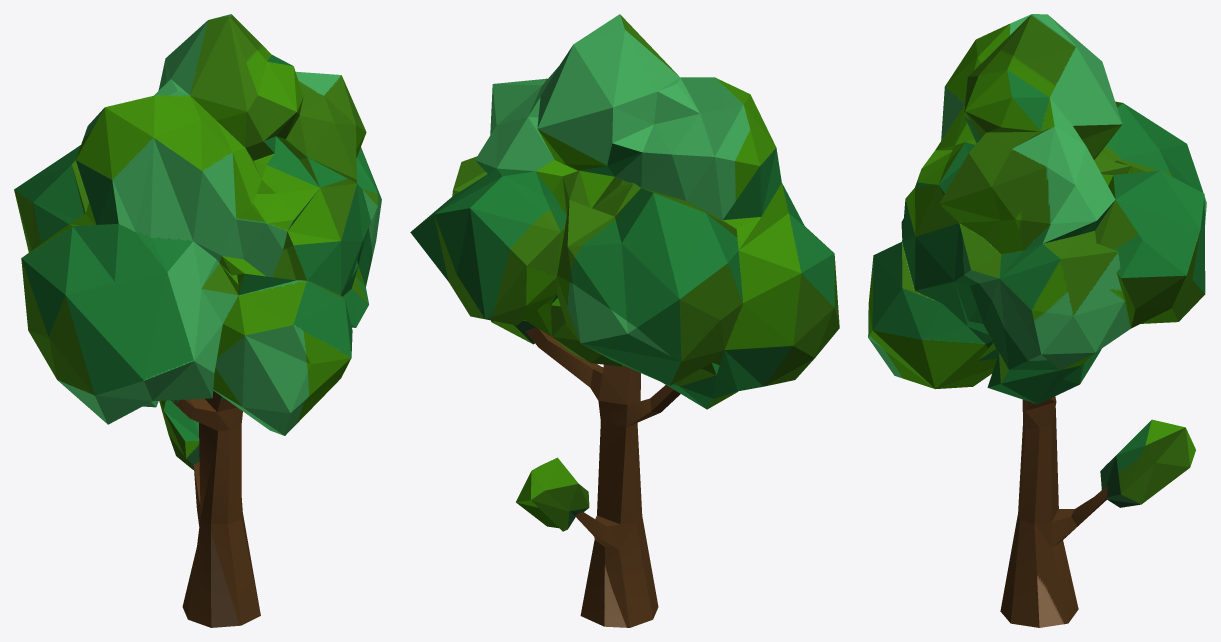
File: tree2.obj
3 renders of one model, left to right at view 1: azimuth 30°, elevation 25°; view 2: azimuth 150°, elevation 25°; view 3: azimuth 270°, elevation 25°, orthographic.
Parts seen in each view (by area): view 1: _4_tree_Icosphere.043; view 2: _4_tree_Icosphere.043; view 3: _4_tree_Icosphere.043.
Part boxes in pixels (box(x1,y1,x2,y2)): _4_tree_Icosphere.043: box(14, 14, 381, 627); _4_tree_Icosphere.043: box(410, 14, 839, 627); _4_tree_Icosphere.043: box(868, 14, 1206, 627).
Size of the model in its own units: 1.65 by 2.69 by 1.38.
